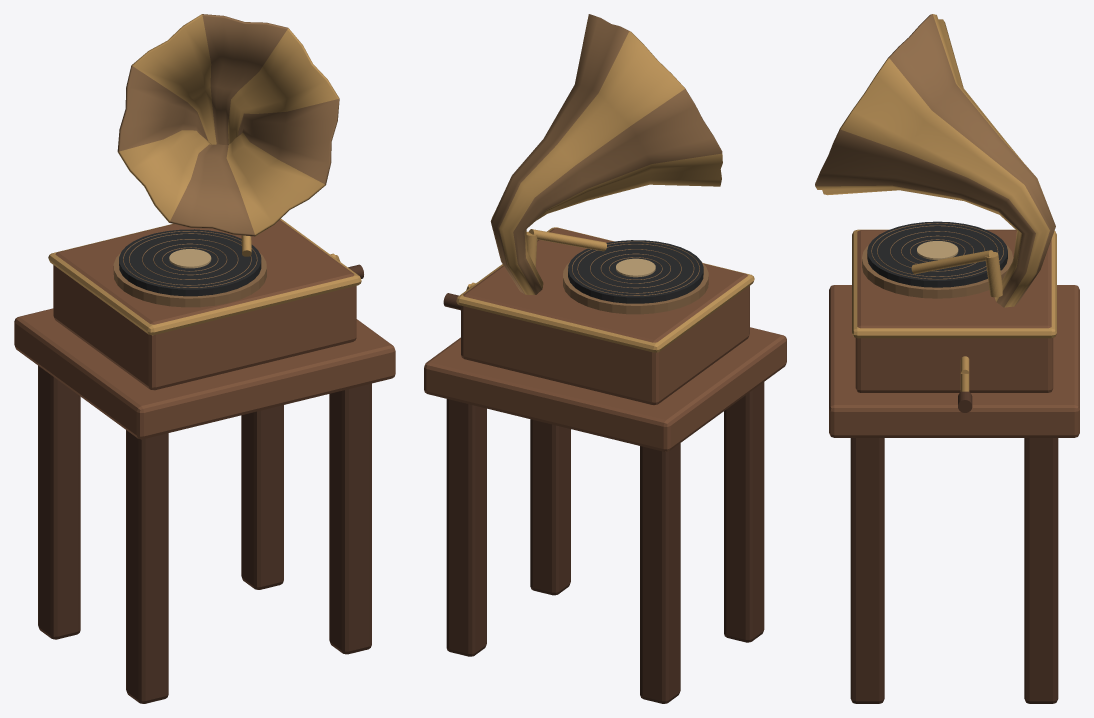
The model's file is gramophone.glb.
3 renders of one model, left to right at view 1: azimuth 30°, elevation 25°; view 2: azimuth 150°, elevation 25°; view 3: azimuth 270°, elevation 25°, orthographic. The views are drawn at different scales.
Visible parts, largest first — view 1: Раструб, Футляр, Табурет, Ножка, Ножка.002, Ножка.001, Ножка.003, Record, Латунный кант, Диск проигрывателя, Этикетка; view 2: Раструб, Футляр, Табурет, Ножка.001, Ножка.003, Ножка, Ножка.002, Record, Латунный кант, Диск проигрывателя, Игла, Этикетка; view 3: Раструб, Футляр, Табурет, Ножка.002, Ножка.003, Record, Латунный кант, Диск проигрывателя, Игла, Этикетка, Тонарм.
Boxes of the visible parts, x1,y1,x2,y2 form: Раструб: (117,14,339,236); Футляр: (53,220,356,390); Табурет: (14,308,395,439); Ножка: (126,430,168,703); Ножка.002: (329,383,371,654); Ножка.001: (38,365,80,639); Ножка.003: (241,405,283,589); Record: (119,229,261,296); Латунный кант: (48,219,361,335); Диск проигрывателя: (113,253,266,307); Этикетка: (169,249,211,268); Раструб: (490,14,722,294); Футляр: (461,228,749,405); Табурет: (424,327,786,451); Ножка.001: (640,443,680,703); Ножка.003: (446,399,486,656); Ножка: (724,382,764,642); Ножка.002: (530,419,570,595); Record: (568,240,703,303); Латунный кант: (456,227,754,352); Диск проигрывателя: (563,262,708,314); Игла: (529,229,606,251); Этикетка: (616,258,655,277); Раструб: (815,14,1055,307); Футляр: (855,230,1053,392); Табурет: (829,285,1079,437); Ножка.002: (850,438,884,703); Ножка.003: (1024,438,1058,703); Record: (867,221,1007,287); Латунный кант: (852,229,1056,338); Диск проигрывателя: (862,245,1013,298); Игла: (911,250,993,274); Этикетка: (917,241,958,259); Тонарм: (985,252,1002,297).
Size of the model in its own units: 0.685 by 1.44 by 0.5491.
